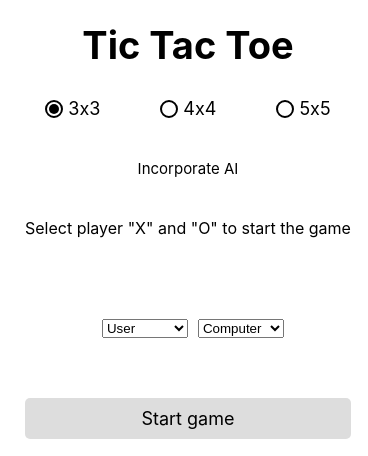
Scenario: <Game /> › should display the correct labels when game is started
Click the element with test id "startGameBtnTestId" at (188, 418), box [25,398,351,439]
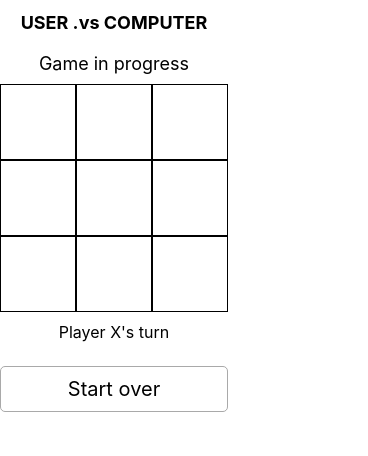
Check: the text "USER .vs COMPUTER" is shown, box [21,12,207,33]
Check: the text "Game in progress" is shown, box [39,53,189,74]
Check: the text "Player X's turn" is shown, box [59,322,169,342]
